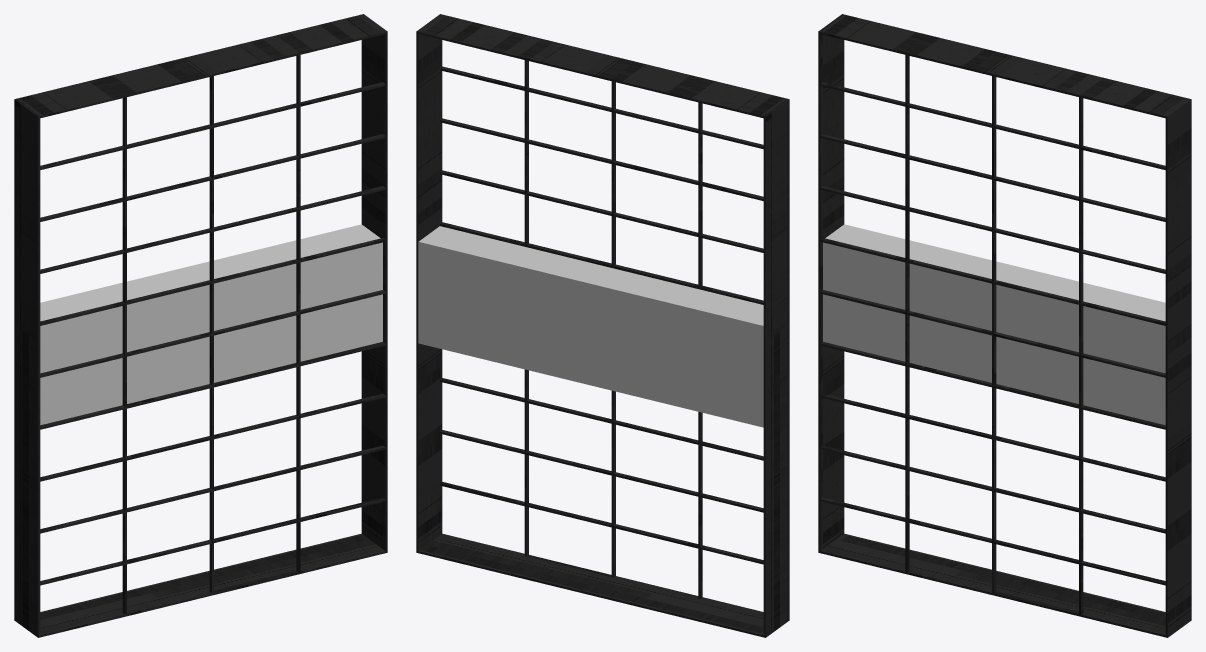
3 renders of one model, left to right at view 1: azimuth 30°, elevation 25°; view 2: azimuth 150°, elevation 25°; view 3: azimuth 330°, elevation 25°, orthographic.
Visible parts, largest first — view 1: window_240x168, window_240x168_insert; view 2: window_240x168, window_240x168_insert; view 3: window_240x168, window_240x168_insert.
Part boxes in pixels (x1,y1,x2,y2): window_240x168: (14, 14, 387, 637); window_240x168_insert: (40, 224, 382, 425); window_240x168: (416, 14, 789, 637); window_240x168_insert: (418, 226, 763, 427); window_240x168: (818, 14, 1191, 637); window_240x168_insert: (823, 224, 1165, 425).
Size of the model in its own units: 169 by 241 by 20.
